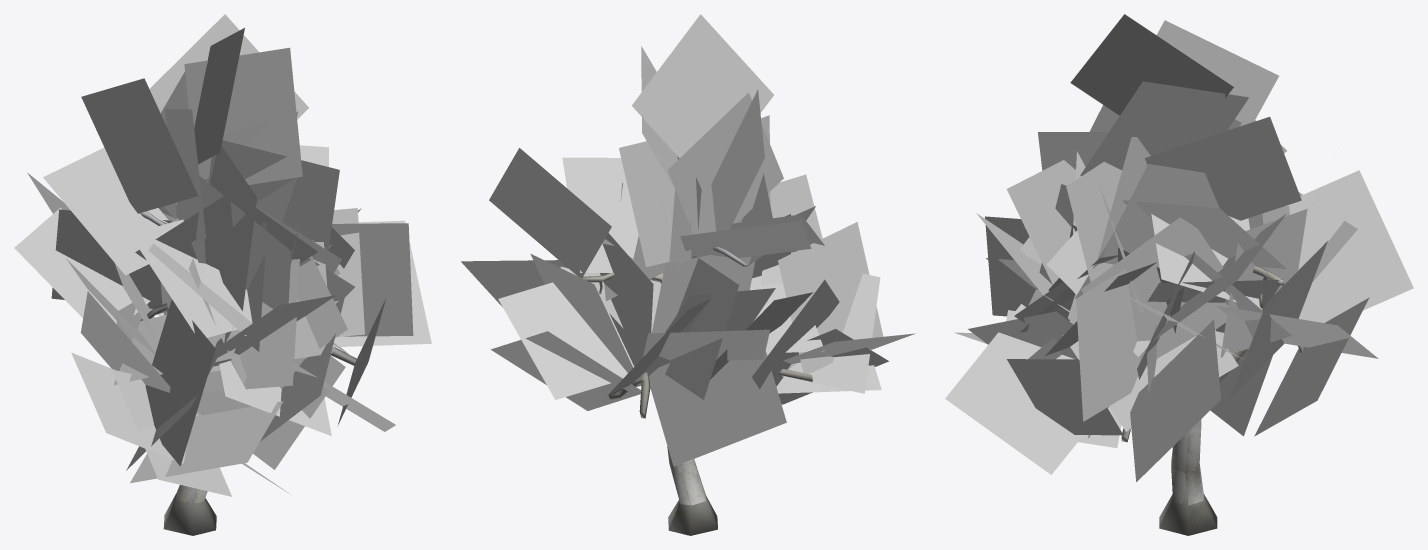
File: deadtree1test 5.fbx
3 renders of one model, left to right at view 1: azimuth 30°, elevation 25°; view 2: azimuth 150°, elevation 25°; view 3: azimuth 270°, elevation 25°, orthographic. The views are drawn at different scales.
Visible parts, largest first — view 1: Plane.030, Plane.003, Plane.024, Plane.011, Plane.055, Plane.021, Plane.067, Plane.053, Plane.042, Plane.037, Plane.005, Plane.025 (+33 smaller); view 2: Plane.005, Plane.049, Plane.008, Plane.040, Plane.011, Plane.034, Plane.022, Plane.027, Plane.044, Cube, Plane.030, Plane.048 (+20 smaller); view 3: Plane.051, Plane.018, Plane.027, Plane.012, Plane.003, Plane.005, Plane.055, Plane.054, Plane.015, Plane.007, Cube, Plane.043 (+26 smaller).
Part boxes in pixels (bbox=[...]): Plane.030: bbox=[81, 78, 198, 213]; Plane.003: bbox=[184, 47, 302, 184]; Plane.024: bbox=[43, 147, 168, 275]; Plane.011: bbox=[145, 299, 215, 466]; Plane.055: bbox=[332, 223, 413, 336]; Plane.021: bbox=[209, 140, 339, 250]; Plane.067: bbox=[130, 401, 283, 483]; Plane.053: bbox=[129, 219, 252, 337]; Plane.042: bbox=[14, 208, 150, 324]; Plane.037: bbox=[135, 191, 317, 269]; Plane.005: bbox=[194, 28, 244, 164]; Plane.025: bbox=[203, 259, 299, 392]; Plane.005: bbox=[631, 14, 773, 158]; Plane.049: bbox=[649, 351, 786, 466]; Plane.008: bbox=[489, 148, 611, 277]; Plane.040: bbox=[498, 282, 634, 399]; Plane.011: bbox=[778, 222, 883, 374]; Plane.034: bbox=[667, 92, 783, 234]; Plane.022: bbox=[562, 157, 638, 272]; Plane.027: bbox=[619, 141, 674, 267]; Plane.044: bbox=[665, 256, 738, 399]; Cube: bbox=[582, 229, 812, 535]; Plane.030: bbox=[711, 89, 764, 247]; Plane.048: bbox=[600, 233, 653, 378]; Plane.051: bbox=[1285, 170, 1413, 322]; Plane.018: bbox=[945, 304, 1083, 474]; Plane.027: bbox=[1145, 116, 1301, 220]; Plane.012: bbox=[1130, 319, 1220, 481]; Plane.003: bbox=[1080, 81, 1248, 175]; Plane.005: bbox=[1070, 14, 1233, 115]; Plane.055: bbox=[1076, 268, 1139, 421]; Plane.054: bbox=[1080, 217, 1228, 361]; Plane.015: bbox=[1007, 359, 1122, 435]; Plane.007: bbox=[1103, 164, 1219, 264]; Cube: bbox=[1121, 266, 1304, 535]; Plane.043: bbox=[1254, 297, 1369, 436].
Bounding box in the file's own units: 1752 × 2191 × 1789.
